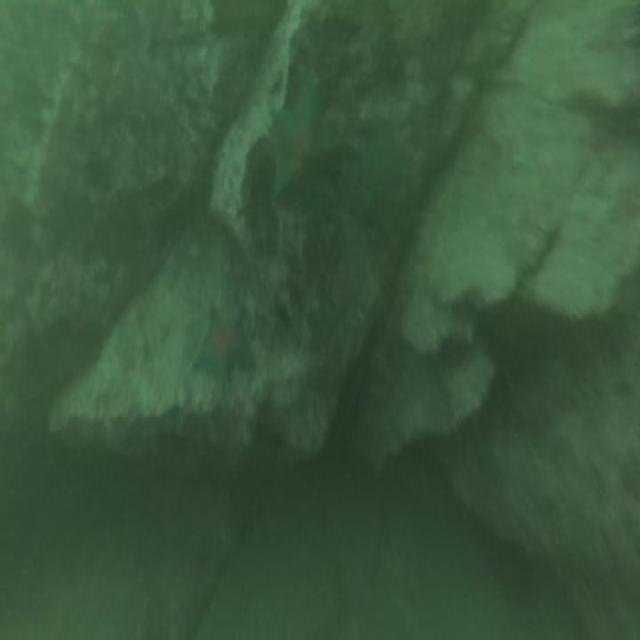starfish: (268, 82, 344, 231), (351, 115, 417, 242), (194, 300, 260, 398)
